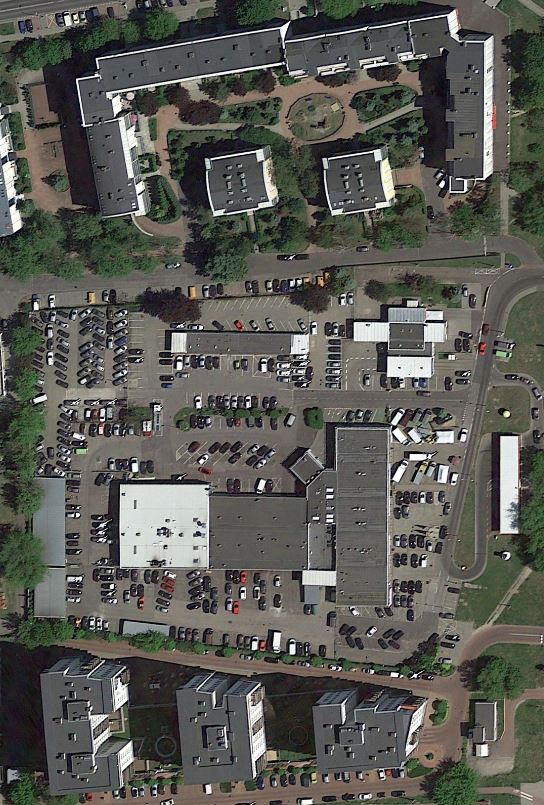block of flats: (78, 8, 499, 223), (37, 650, 141, 800), (175, 665, 274, 793), (308, 681, 432, 780), (197, 138, 285, 222), (319, 140, 398, 219)
garage: (20, 467, 73, 628), (489, 429, 527, 555), (166, 329, 315, 359)
shopping_center: (106, 410, 403, 615)
